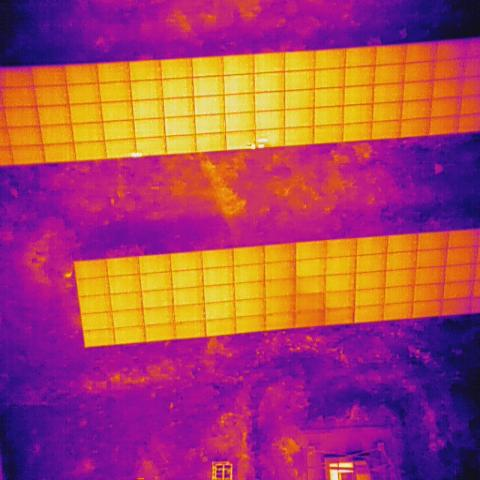fault: (130, 151, 144, 159), (257, 137, 269, 143), (258, 143, 265, 149), (250, 143, 255, 150)
